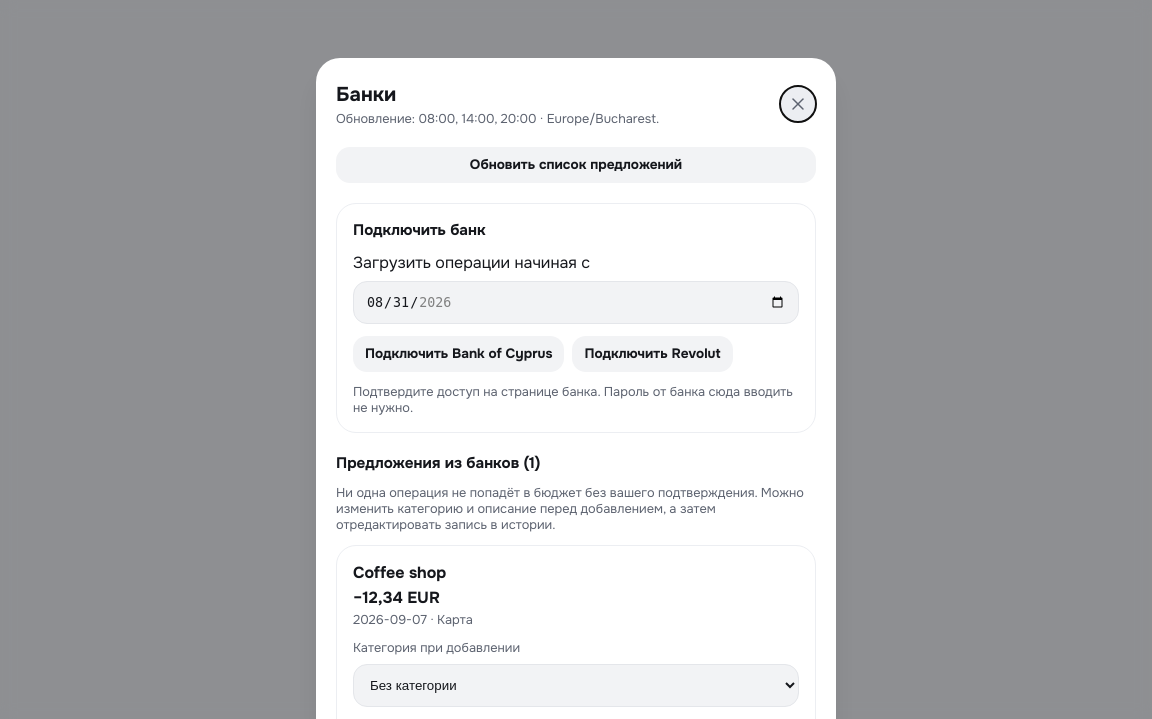
Test: BankingSheet connections › limits the initial date to the last 90 calendar days, including the first day
Later steps or results of the test are not shown.
In the date field labelled "Загрузить операции начиная с": (576, 302) [353,281,799,324], type "2026-06-08"
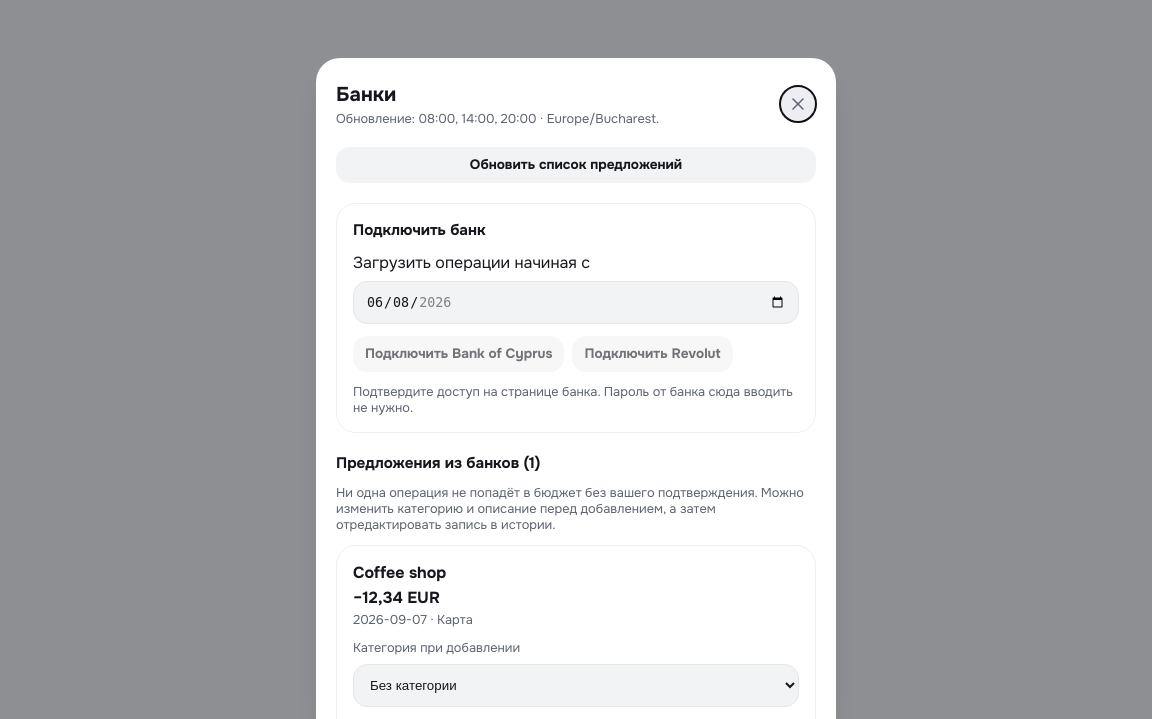
Check: the button "Подключить Revolut" is disabled, box [572,336,733,372]
